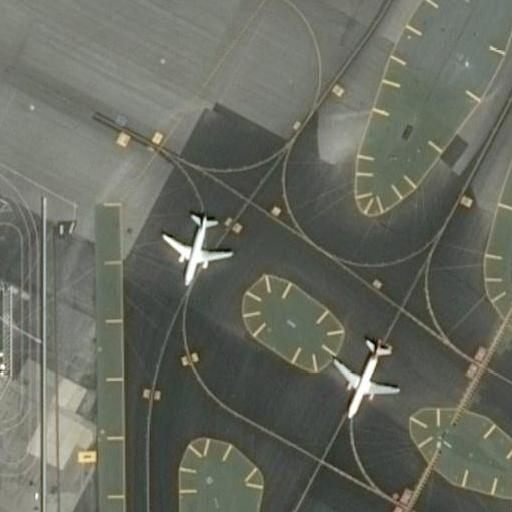Aircraft: (156, 203, 231, 294), (327, 327, 396, 416)
